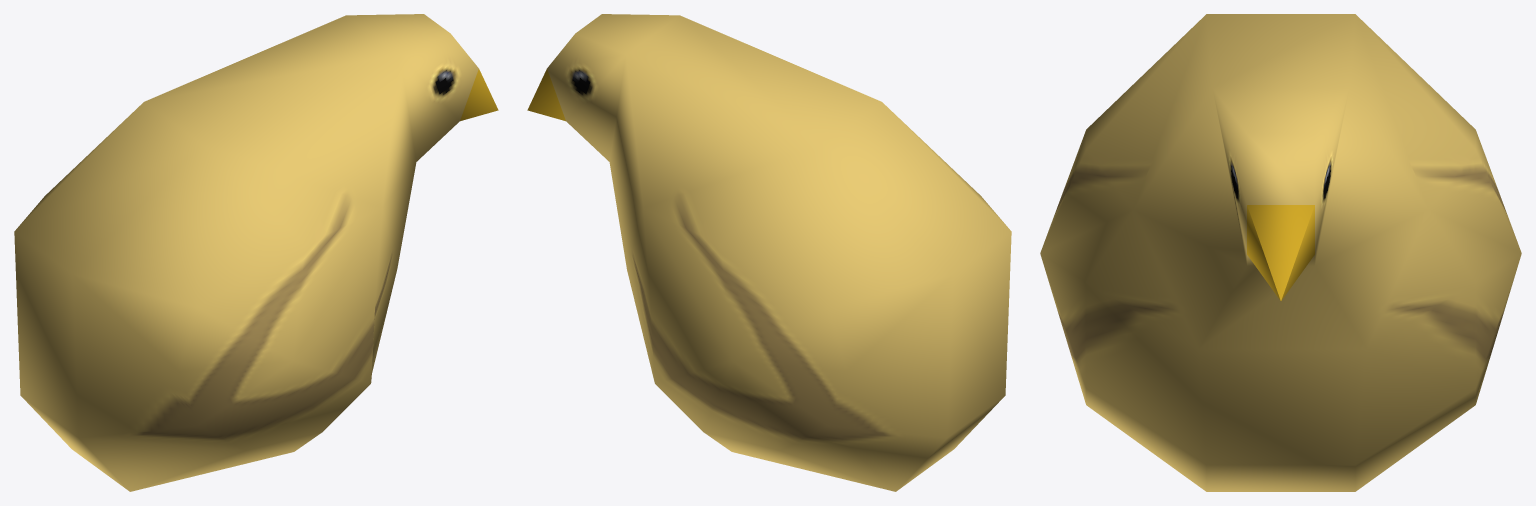
Rendered from mod_prop_critters_chicken.fbx.
3 renders of one model, left to right at view 1: azimuth 30°, elevation 25°; view 2: azimuth 150°, elevation 25°; view 3: azimuth 270°, elevation 25°, orthographic. The views are drawn at different scales.
Visible parts, largest first — view 1: mod_prop_critters_chicken; view 2: mod_prop_critters_chicken; view 3: mod_prop_critters_chicken.
Part boxes in pixels (x1,y1,x2,y2): mod_prop_critters_chicken: [14, 14, 498, 491]; mod_prop_critters_chicken: [527, 14, 1011, 491]; mod_prop_critters_chicken: [1040, 14, 1521, 491].
Bounding box in the file's own units: 26.72 × 20.71 × 19.19.
